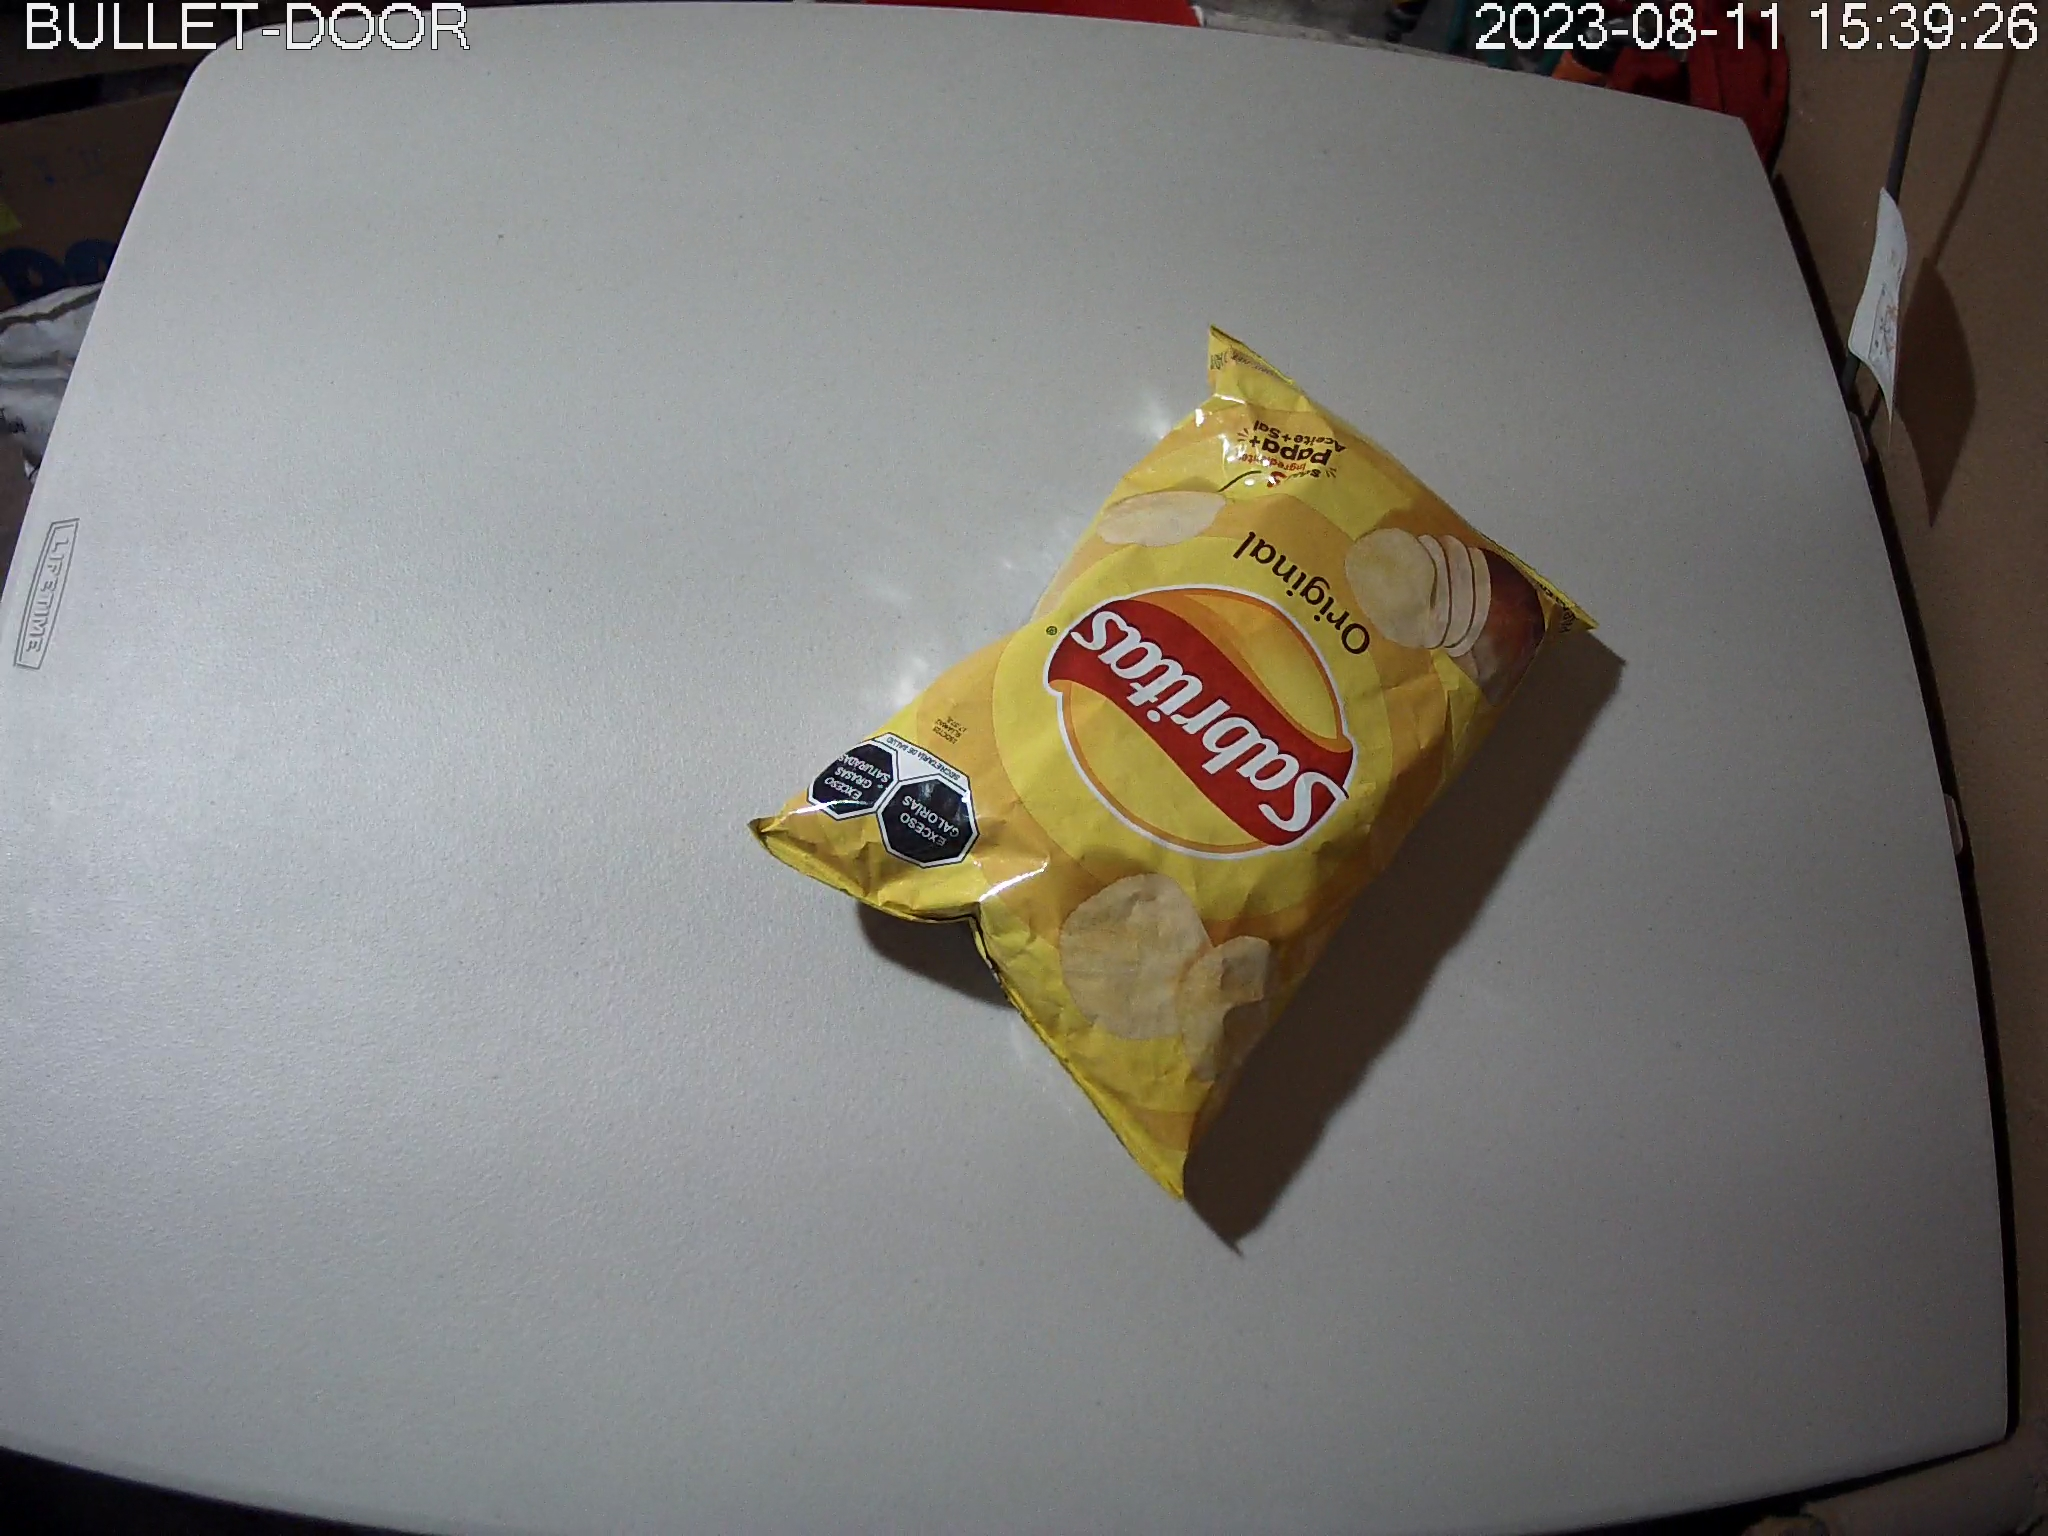Sabritas_160_F: (747, 324, 1601, 1205)
